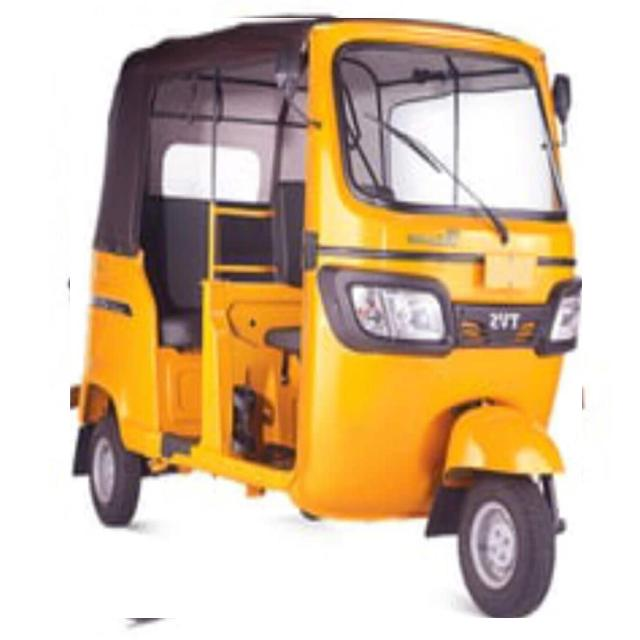autorickshaw: (70, 18, 582, 618)
